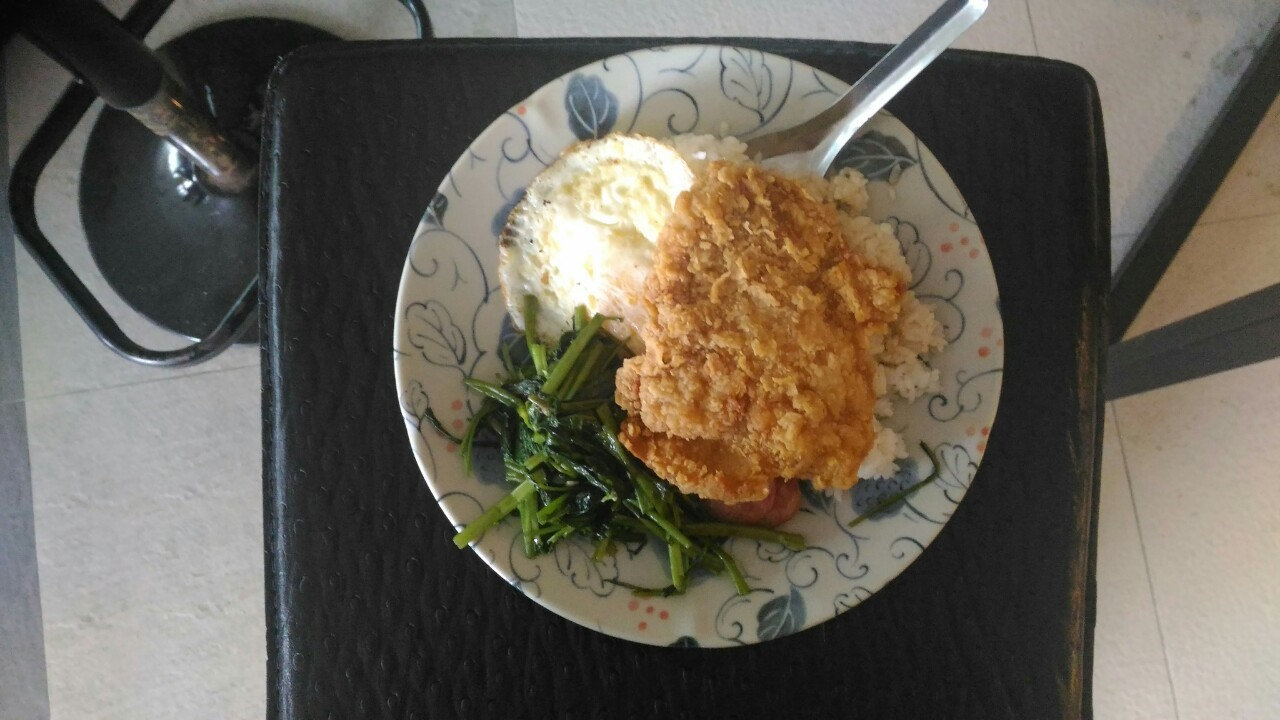fried_chicken: (618, 165, 905, 490)
fried_eggs: (485, 135, 692, 336)
water_spinach: (465, 314, 631, 544)
